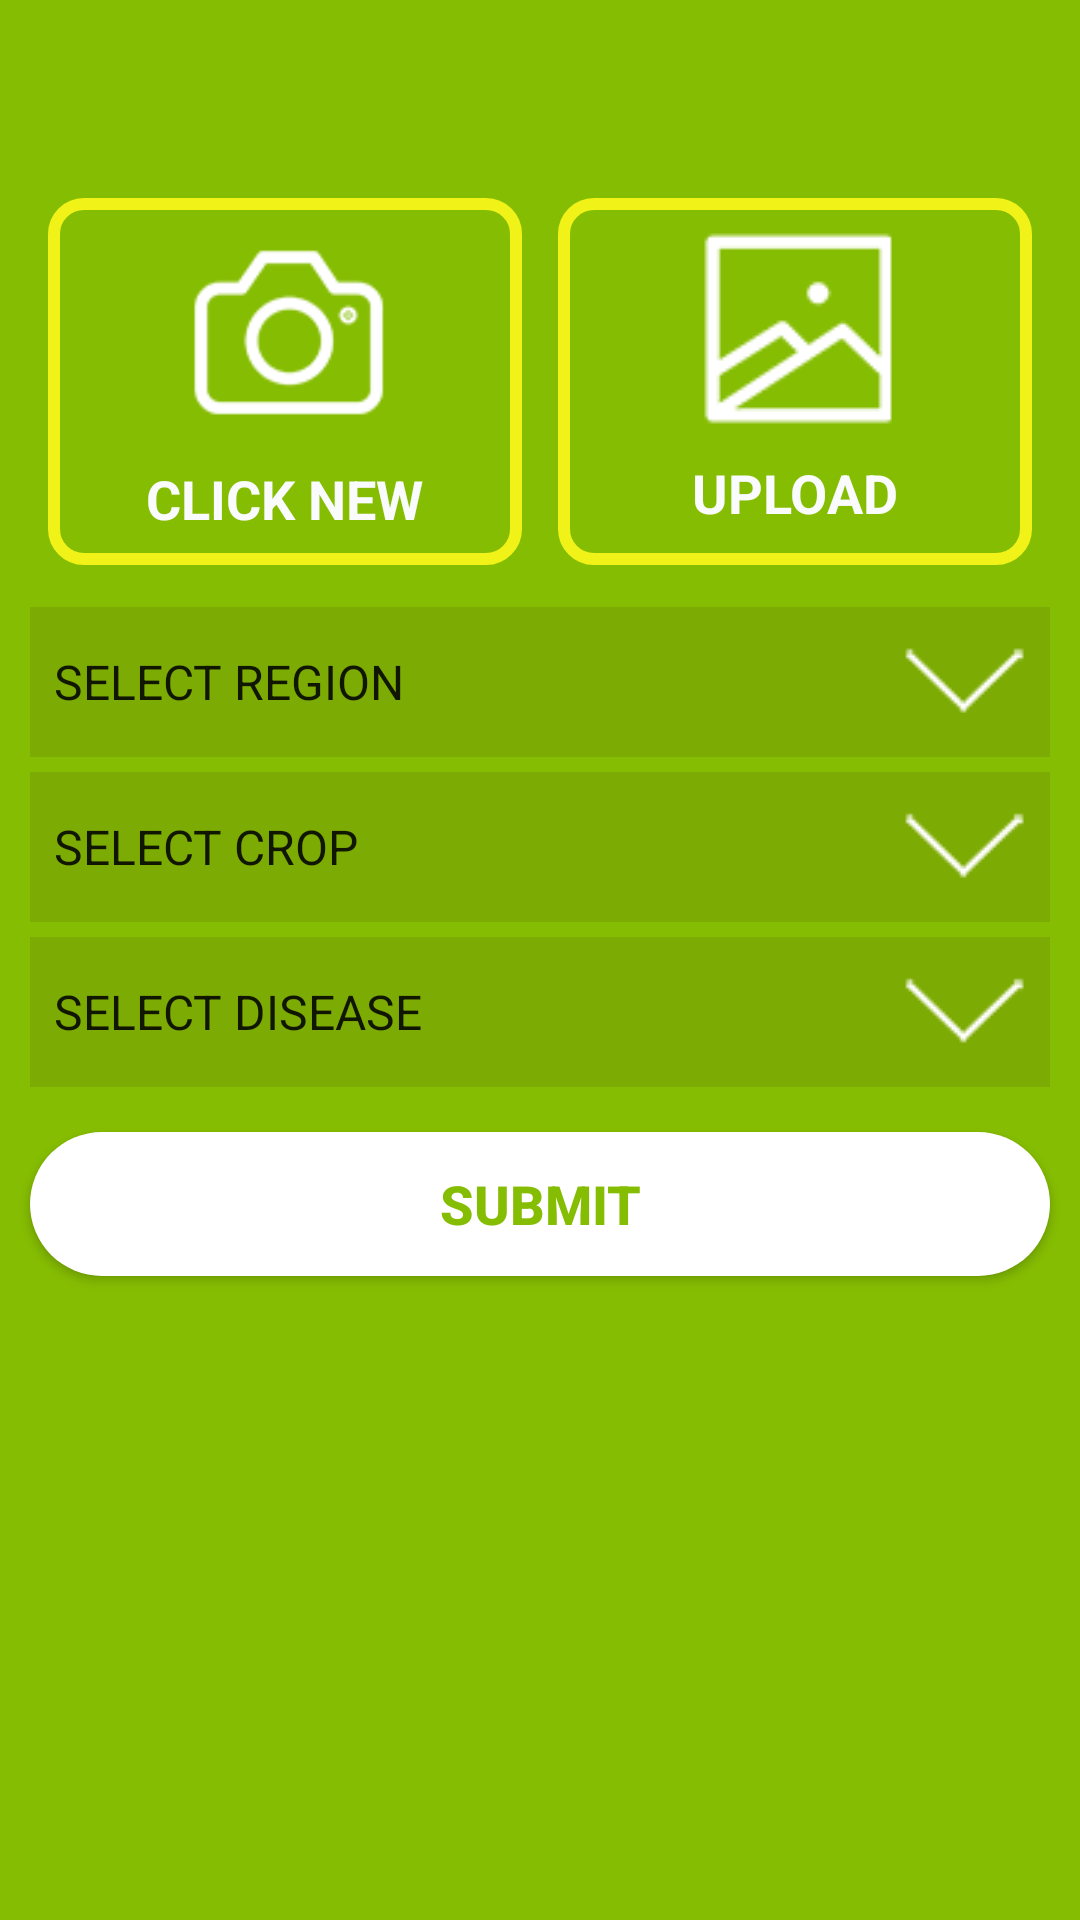

Named icons in this screenshot (1080px x 1920px) and their bounding boxes, BBox(x1, y1, x2, y2):
cam: BBox(194, 250, 384, 415)
